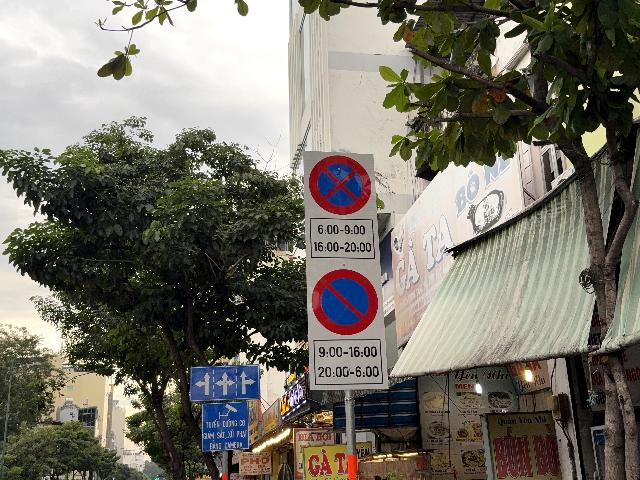cam-do-xe: (312, 268, 379, 334)
cam-dung-va-do-xe: (310, 154, 371, 215)
